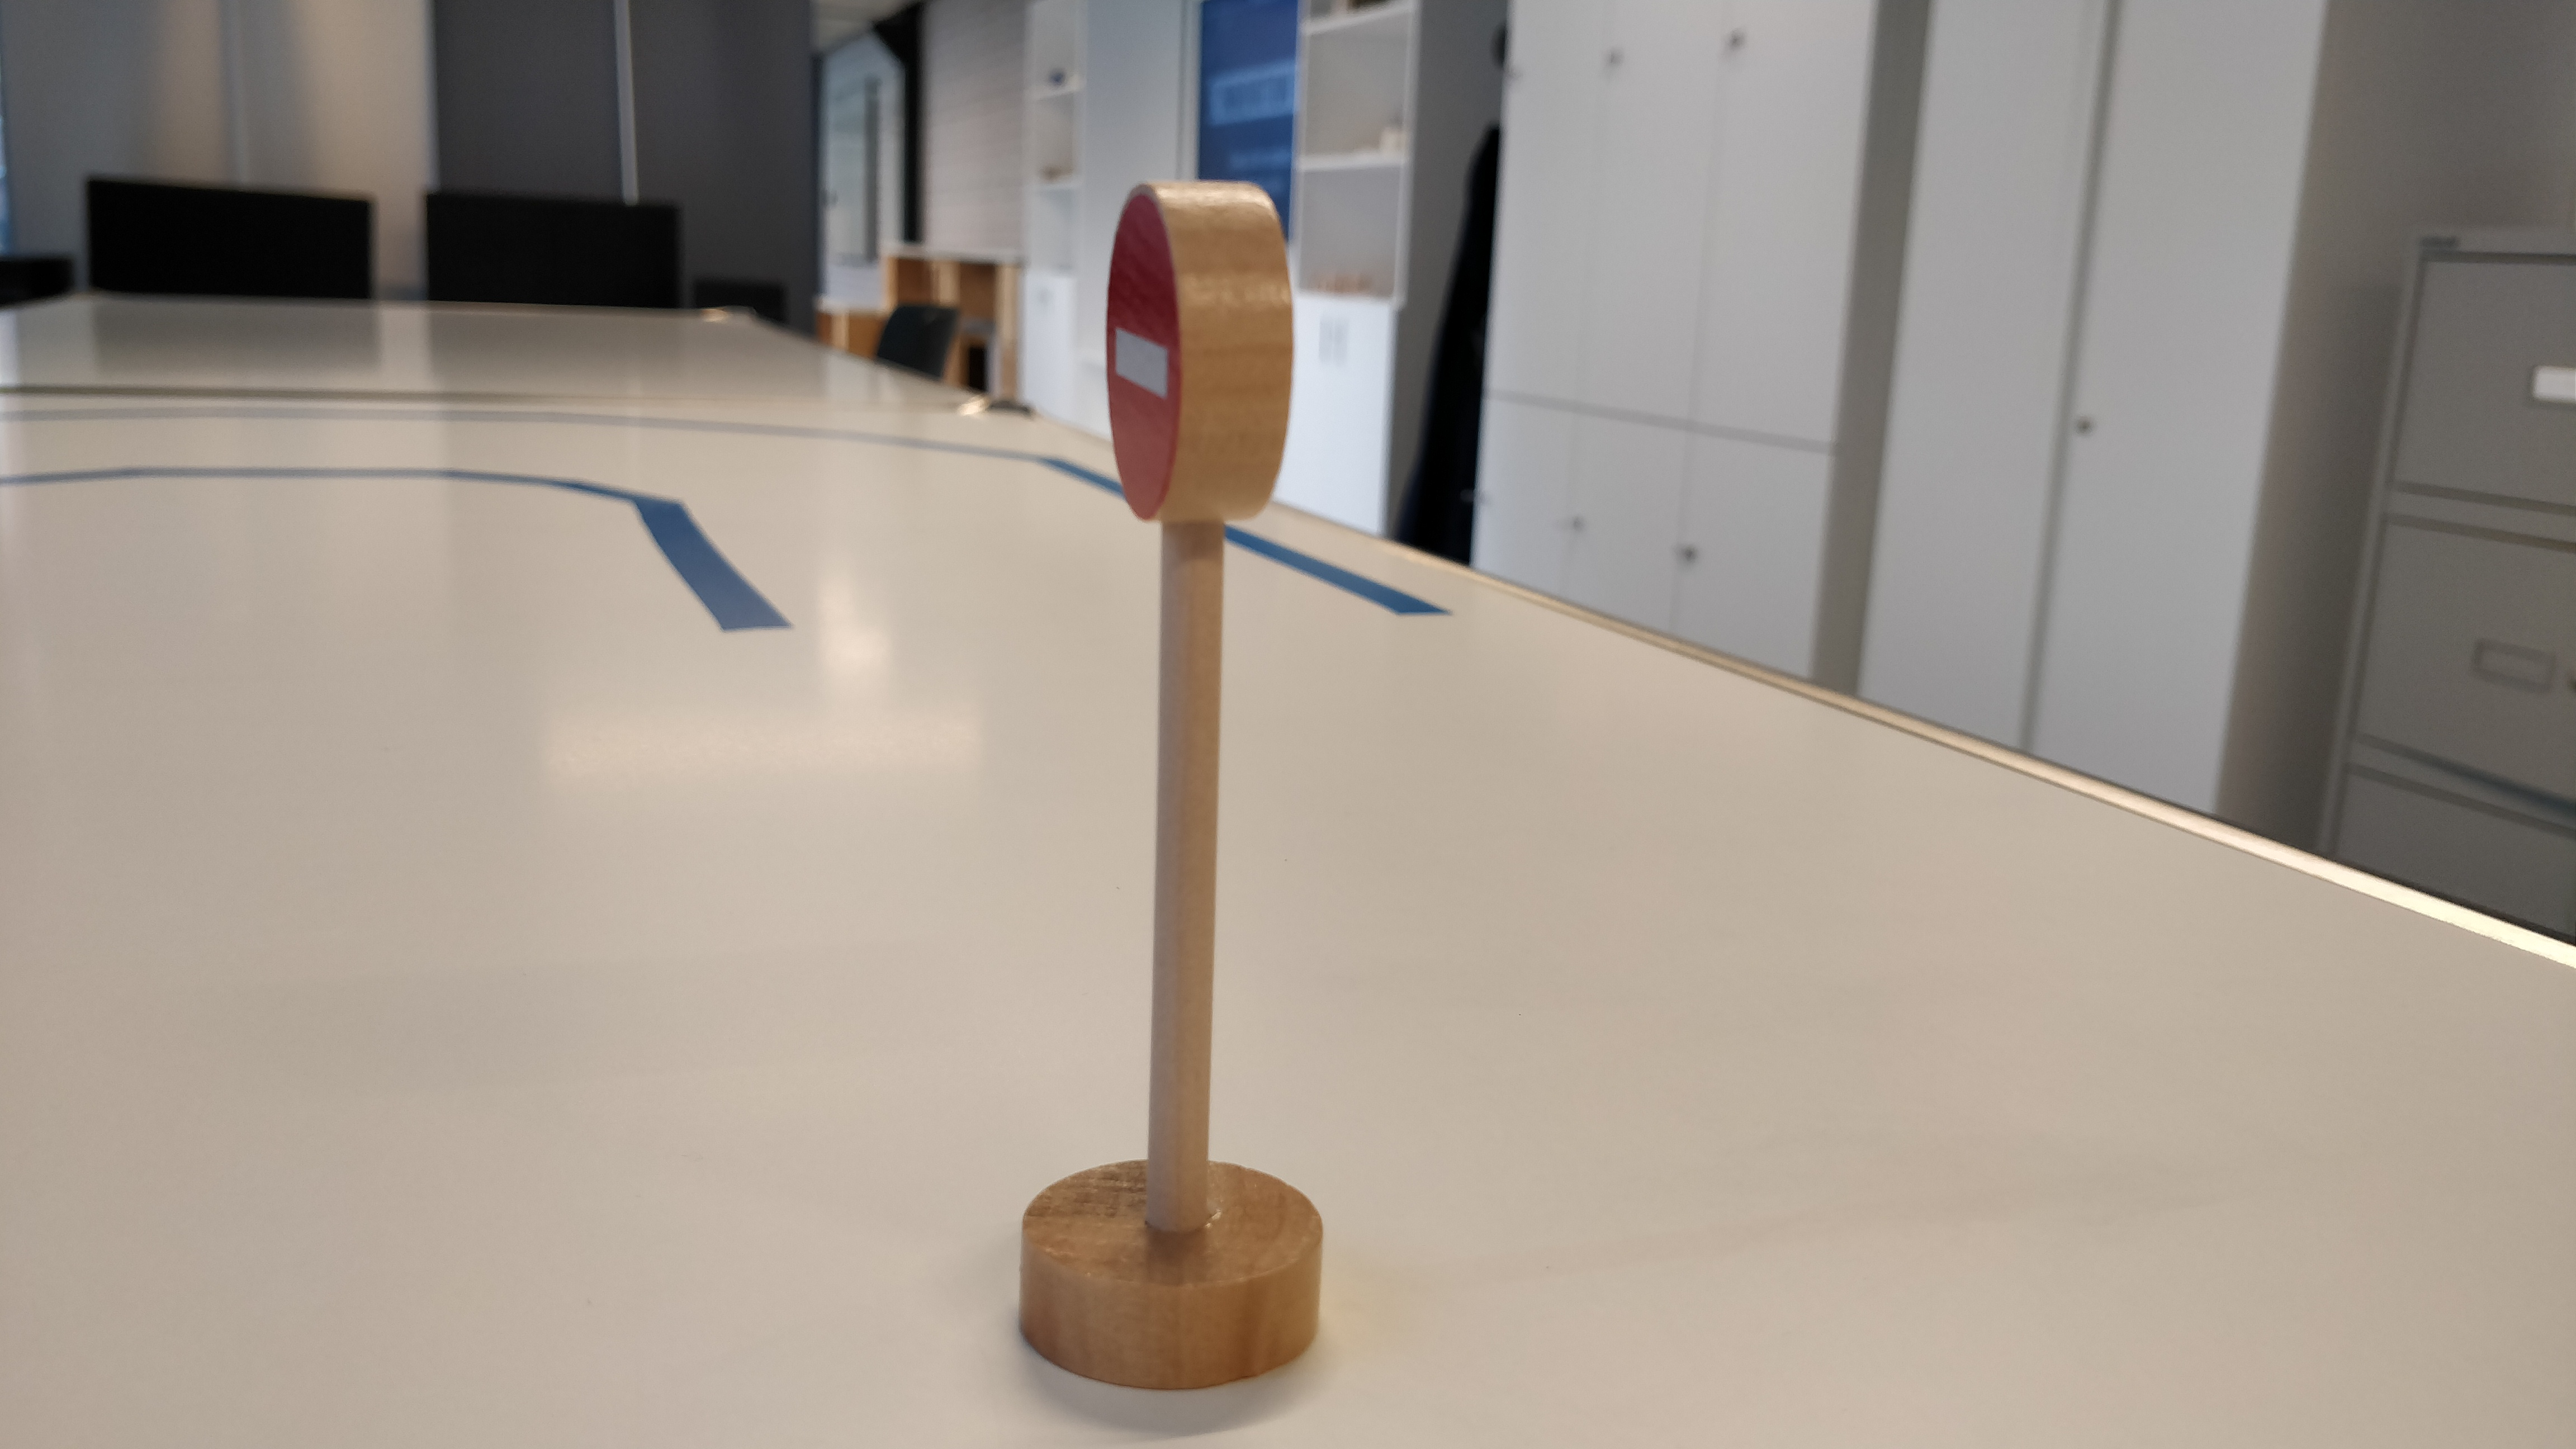Prohibition Sign: (1101, 178, 1300, 534)
